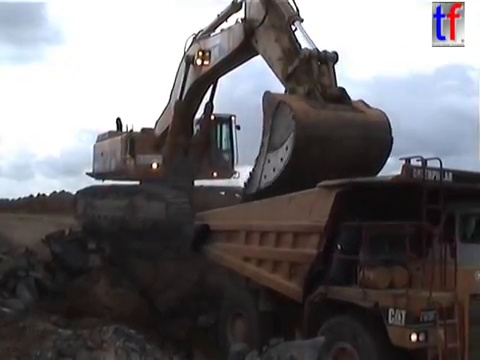excavator: (69, 1, 397, 232)
truck: (188, 152, 480, 360)
